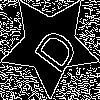D: (25, 19, 81, 76)
